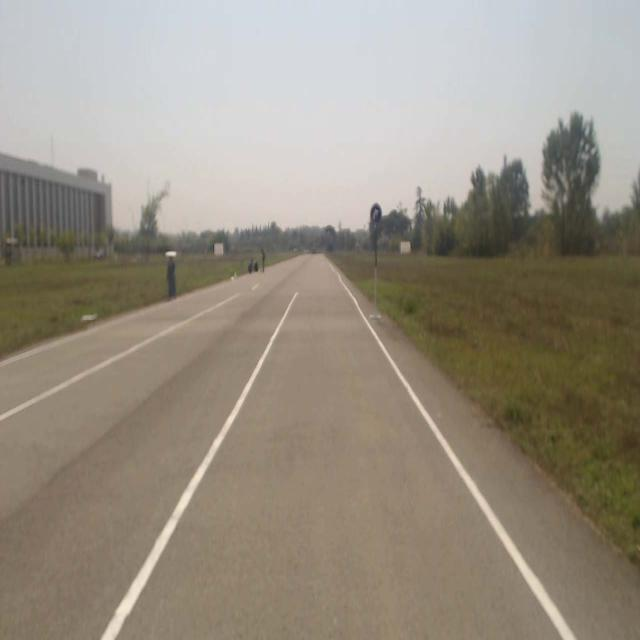sag: (371, 204, 381, 223)
